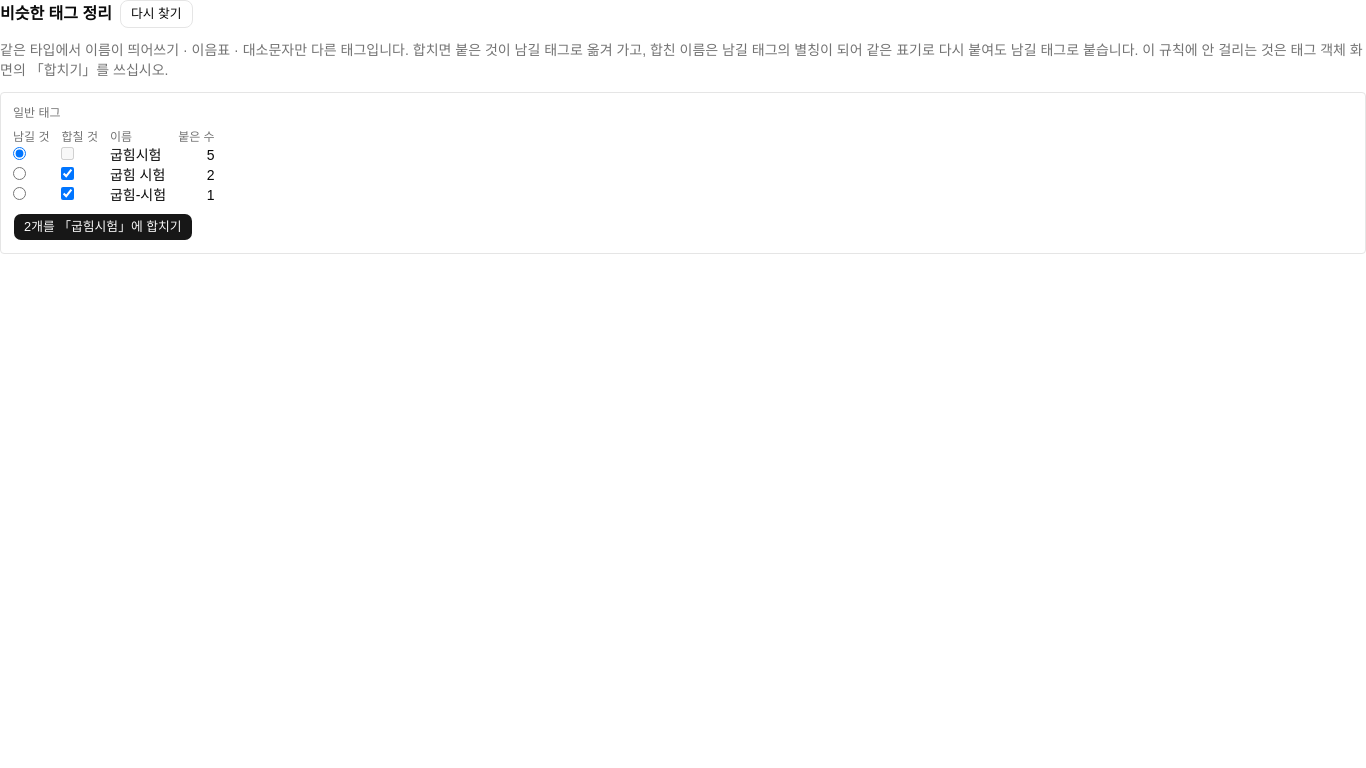
Test: 남길 것을 바꾸고 하나를 빼서 합치면 그것만 보내고 결과를 말한다
Click the radio button named "굽힘 시험 남기기" at (20, 174), box [13,167,26,180]
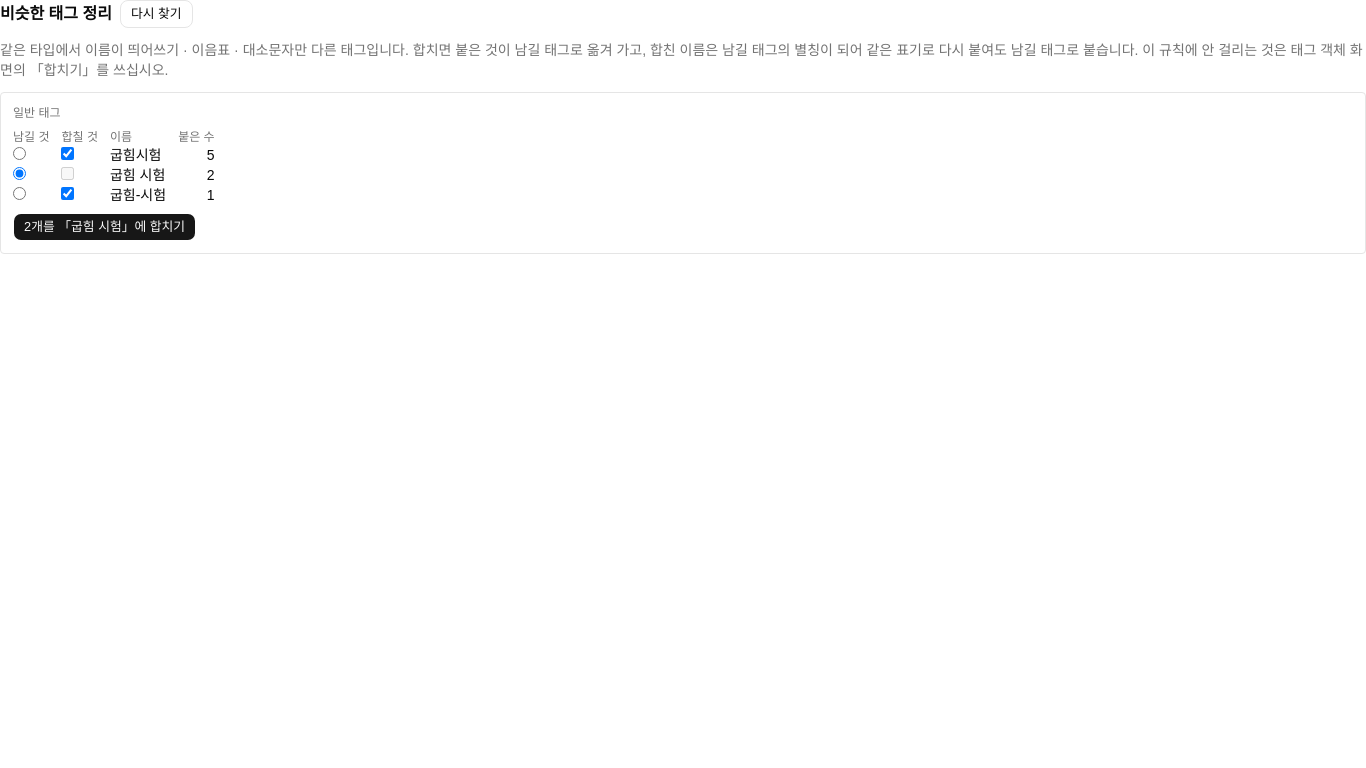
Click the checkbox named "굽힘-시험 합치기" at (68, 194), box [62,187,74,200]
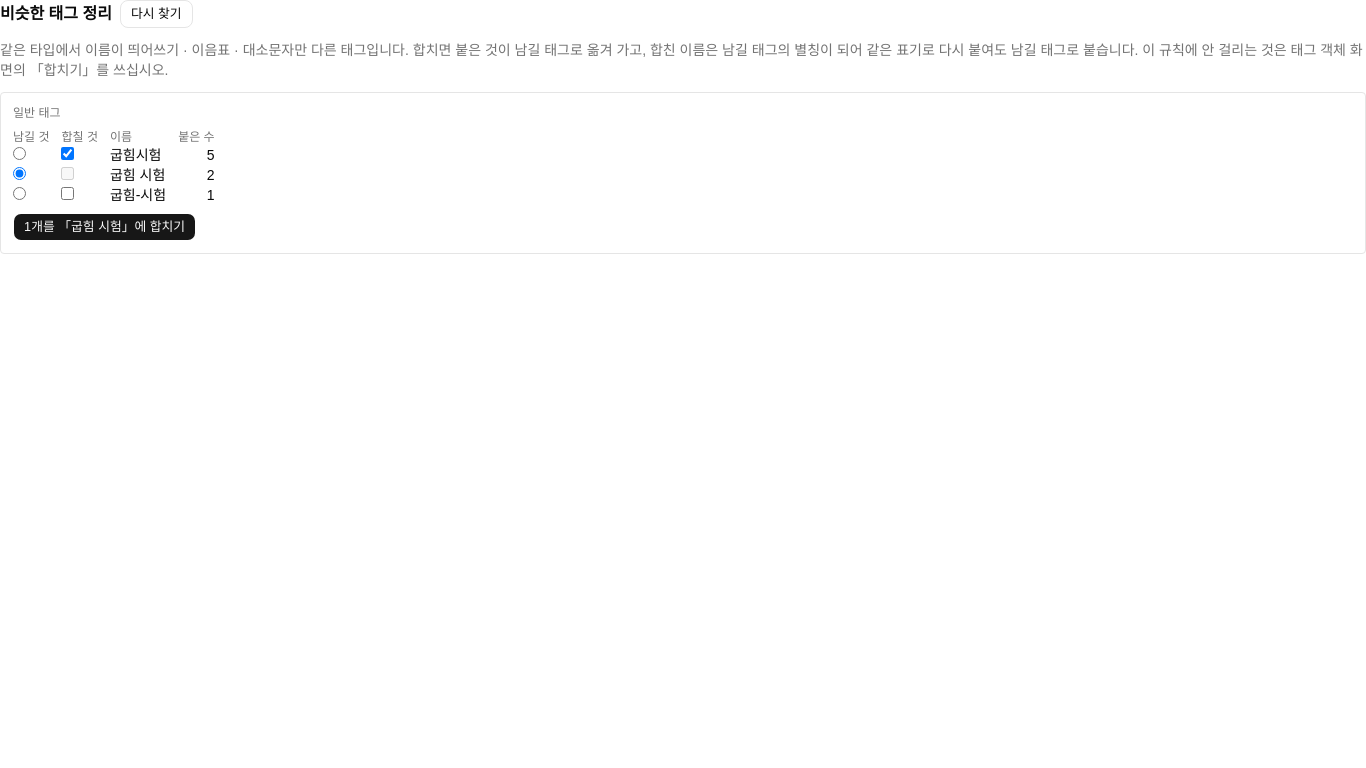
Click the button "1개를 「굽힘 시험」에 합치기" at (105, 227), box [13,213,196,241]
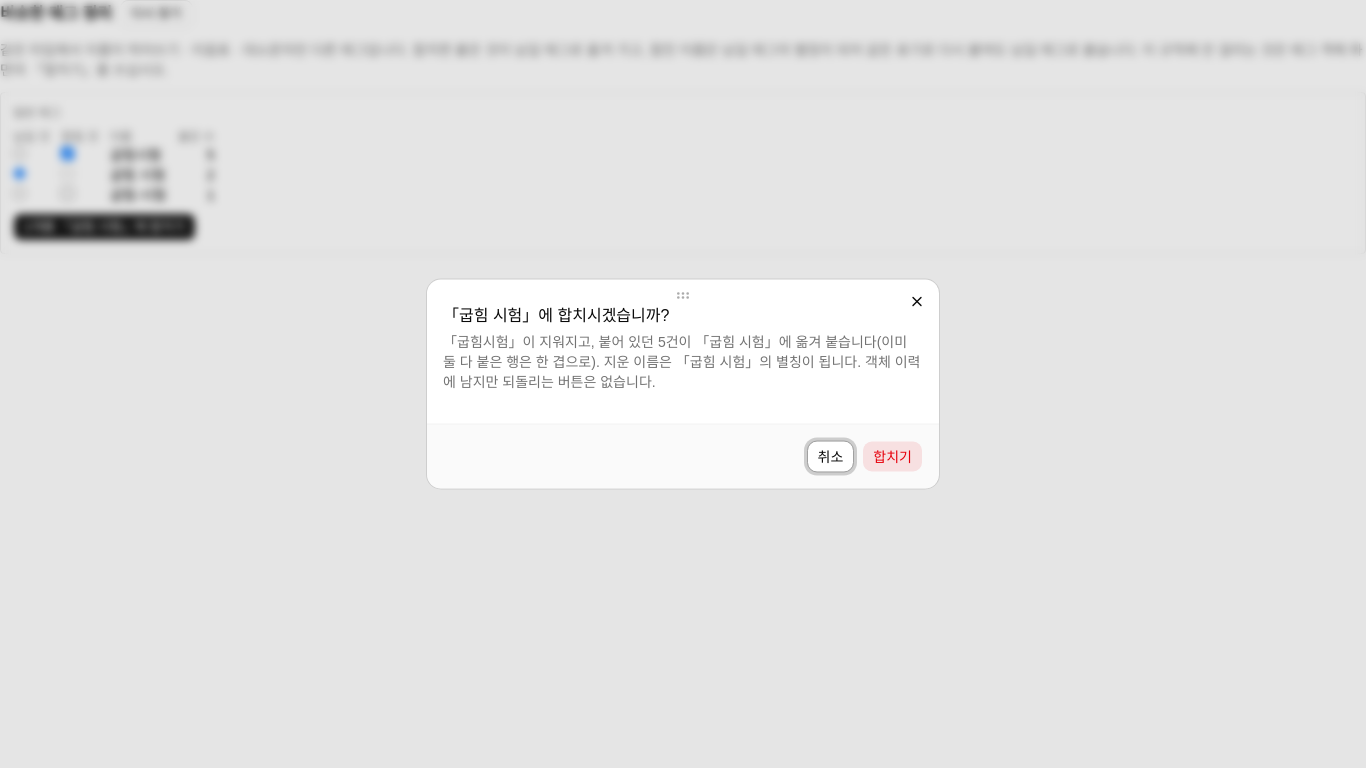
Expected: the text "「굽힘시험」이 지워지고, 붙어 있던 5건이" is shown, [443,334,920,390]
Click the button "합치기" at (893, 456), box [862,440,923,472]
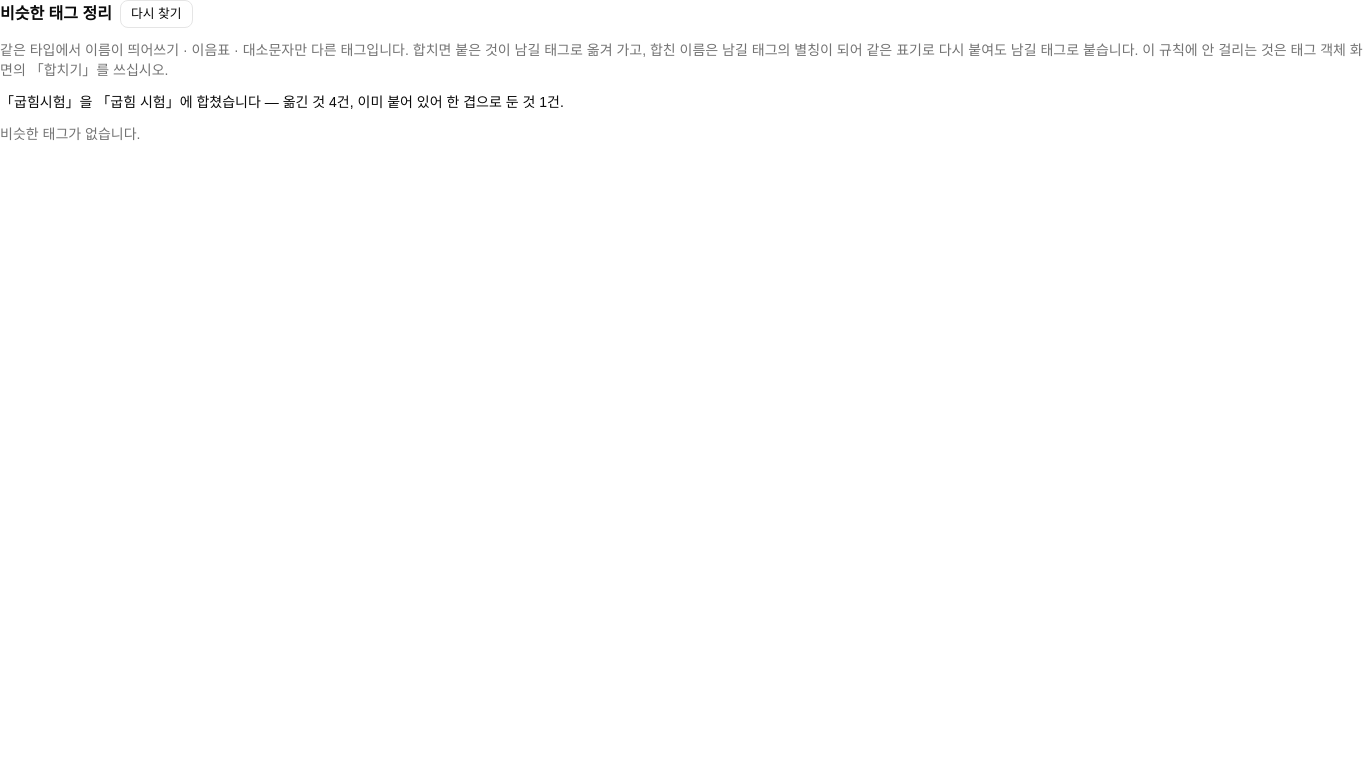
Expected: the text "「굽힘시험」을 「굽힘 시험」에 합쳤습니다 — 옮긴 것 4건, 이미 붙어 있어 한 겹으로 둔 것 1건." is shown, [0,94,564,110]
Expected: the text "비슷한 태그가 없습니다." is shown, [0,126,140,142]
